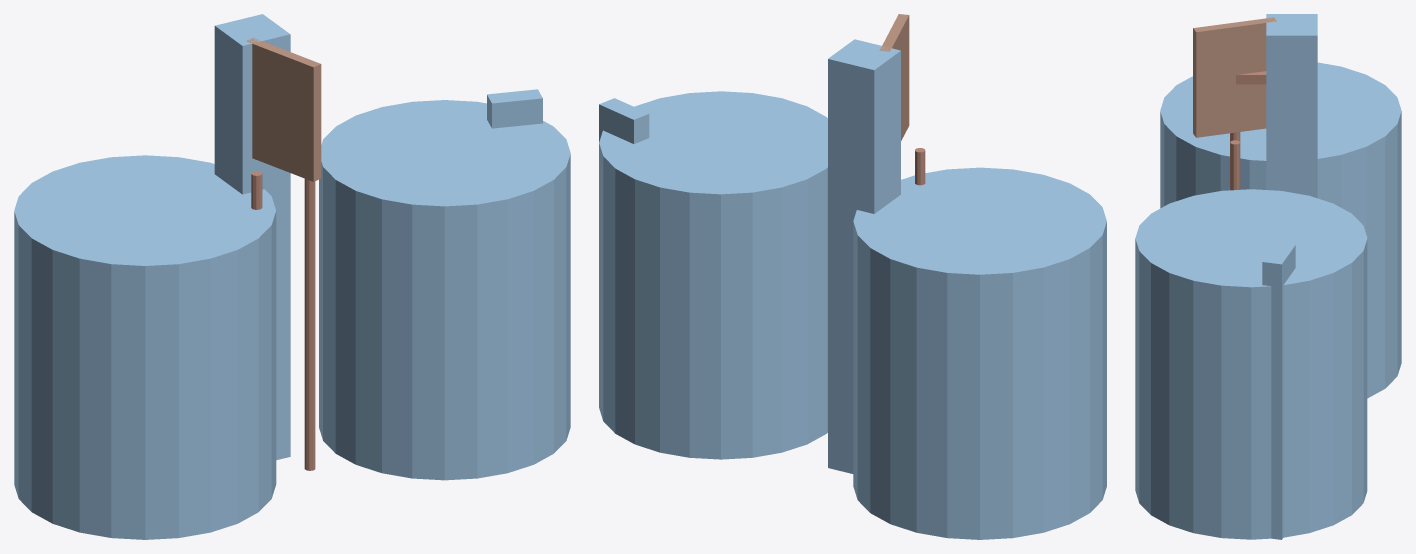
File: folie_tag_068.glb
3 views of the same model, side by side, from view 1: azimuth 30°, elevation 25°; view 2: azimuth 150°, elevation 25°; view 3: azimuth 270°, elevation 25° (orthographic). The views are drawn at different scales.
Parts seen in each view (by area): view 1: folie_tag_068_00_drum, folie_tag_068_01_drum, folie_tag_068_core, folie_tag_068_03_panel, folie_tag_068_line, folie_tag_068_02_fin; view 2: folie_tag_068_00_drum, folie_tag_068_01_drum, folie_tag_068_core, folie_tag_068_02_fin, folie_tag_068_03_panel; view 3: folie_tag_068_01_drum, folie_tag_068_00_drum, folie_tag_068_core, folie_tag_068_03_panel, folie_tag_068_02_fin, folie_tag_068_line.
Boxes of the visible parts, x1,y1,x2,y2 form: folie_tag_068_00_drum: [14, 155, 276, 539]; folie_tag_068_01_drum: [319, 100, 570, 480]; folie_tag_068_core: [214, 14, 290, 460]; folie_tag_068_03_panel: [246, 38, 321, 181]; folie_tag_068_line: [251, 171, 315, 470]; folie_tag_068_02_fin: [487, 89, 542, 128]; folie_tag_068_00_drum: [853, 167, 1106, 539]; folie_tag_068_01_drum: [599, 91, 827, 459]; folie_tag_068_core: [828, 39, 900, 473]; folie_tag_068_02_fin: [599, 98, 649, 143]; folie_tag_068_03_panel: [879, 14, 909, 140]; folie_tag_068_01_drum: [1135, 189, 1367, 539]; folie_tag_068_00_drum: [1160, 62, 1401, 398]; folie_tag_068_core: [1266, 14, 1317, 198]; folie_tag_068_03_panel: [1193, 17, 1276, 137]; folie_tag_068_02_fin: [1262, 242, 1295, 539]; folie_tag_068_line: [1230, 71, 1266, 190].
Bounding box in the file's own units: 11.61 × 9.26 × 5.74.
